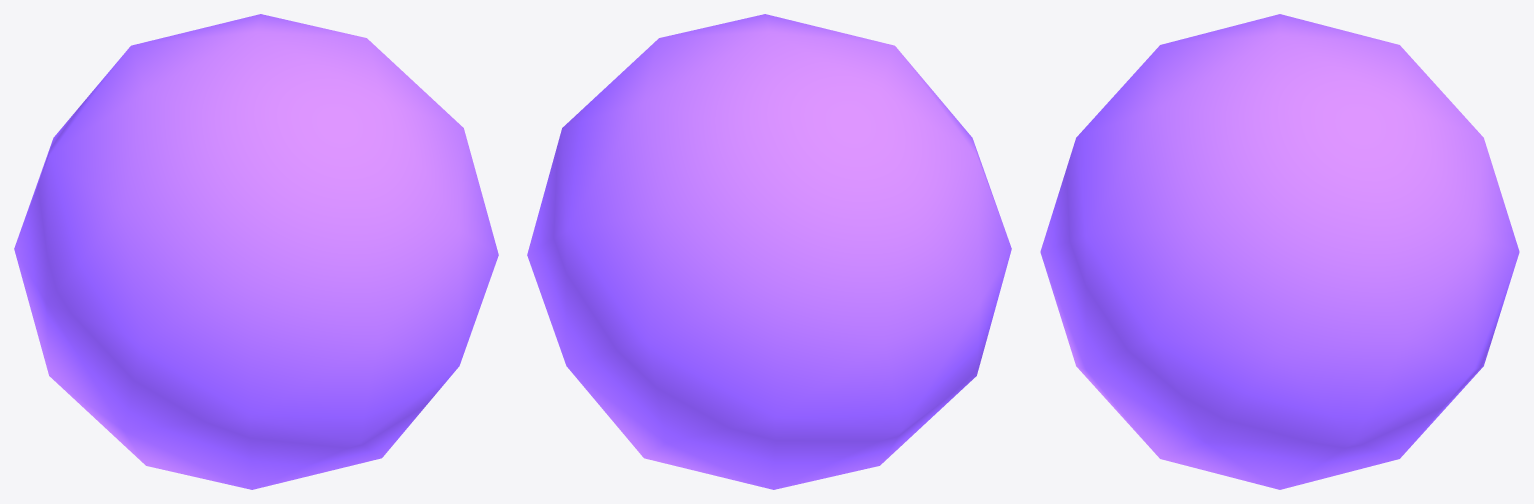
File: llming.glb
3 renders of one model, left to right at view 1: azimuth 30°, elevation 25°; view 2: azimuth 150°, elevation 25°; view 3: azimuth 270°, elevation 25°, orthographic.
Visible parts, largest first — view 1: body; view 2: body; view 3: body.
Part boxes in pixels (left/top/right/bottom): body: left=14, top=14, right=498, bottom=489; body: left=527, top=14, right=1011, bottom=489; body: left=1040, top=14, right=1519, bottom=489.
Bounding box in the file's own units: 0.8 × 0.8 × 0.8.
